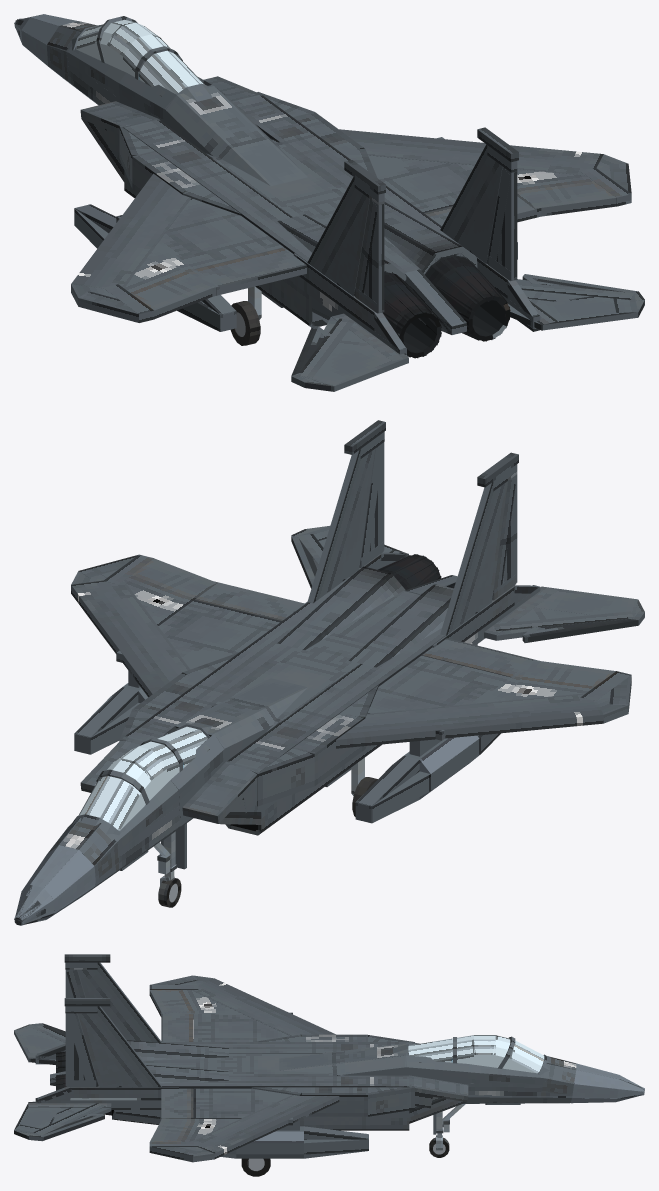
The picture shows the model from 3 angles, top to bottom: view 1: azimuth 30°, elevation 25°; view 2: azimuth 150°, elevation 25°; view 3: azimuth 270°, elevation 25°; orthographic projection. The views are drawn at different scales.
Visible parts, largest first — view 1: cube (×61); view 2: cube (×49); view 3: cube (×58).
Part boxes in pixels (bbox=[...]): cube (×61): bbox=[48, 34, 637, 391]; cube (×49): bbox=[44, 442, 638, 898]; cube (×58): bbox=[14, 954, 619, 1162].
Size of the model in its own units: 12.96 by 5.96 by 19.09.
1 material, 1 textured.
